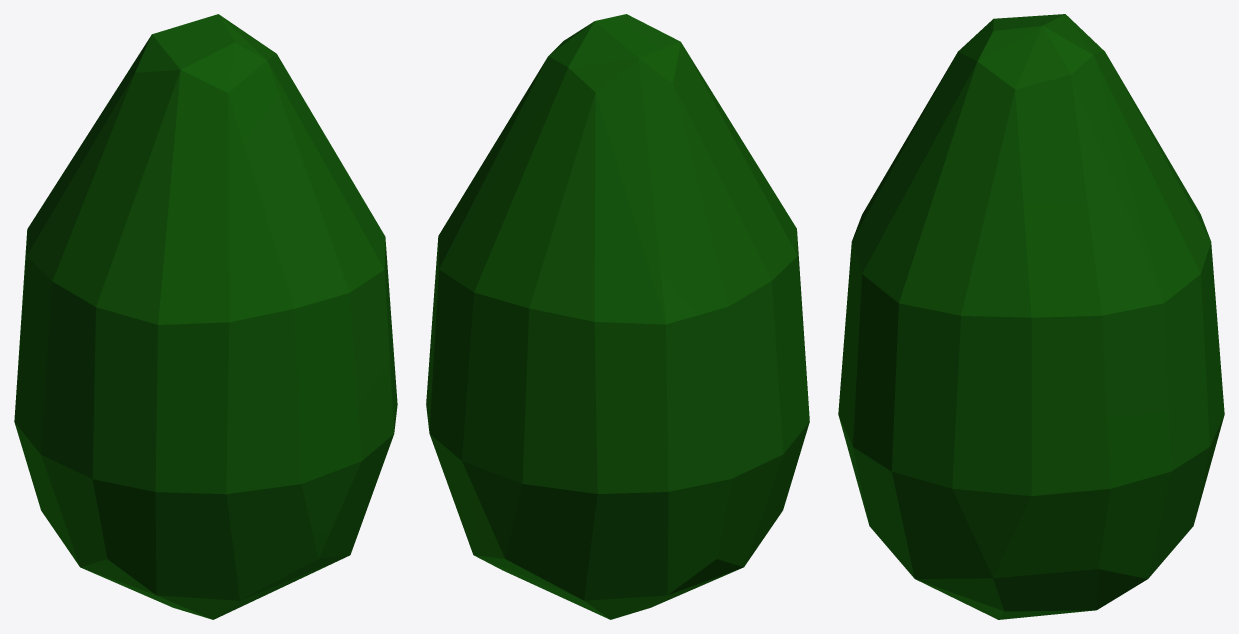
Rendered from Avacado.fbx.
3 renders of one model, left to right at view 1: azimuth 30°, elevation 25°; view 2: azimuth 150°, elevation 25°; view 3: azimuth 270°, elevation 25°, orthographic.
Visible parts, largest first — view 1: Cube.041; view 2: Cube.041; view 3: Cube.041.
Boxes of the visible parts, x1,y1,x2,y2 form: Cube.041: [14, 14, 397, 619]; Cube.041: [426, 14, 809, 619]; Cube.041: [838, 14, 1224, 619].
Size of the model in its own units: 22.86 by 38.21 by 22.86.
